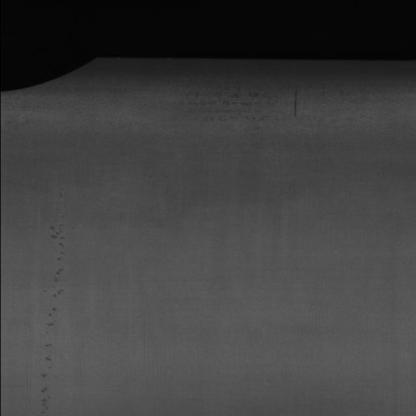crescent_gap: (0, 30, 110, 102)
